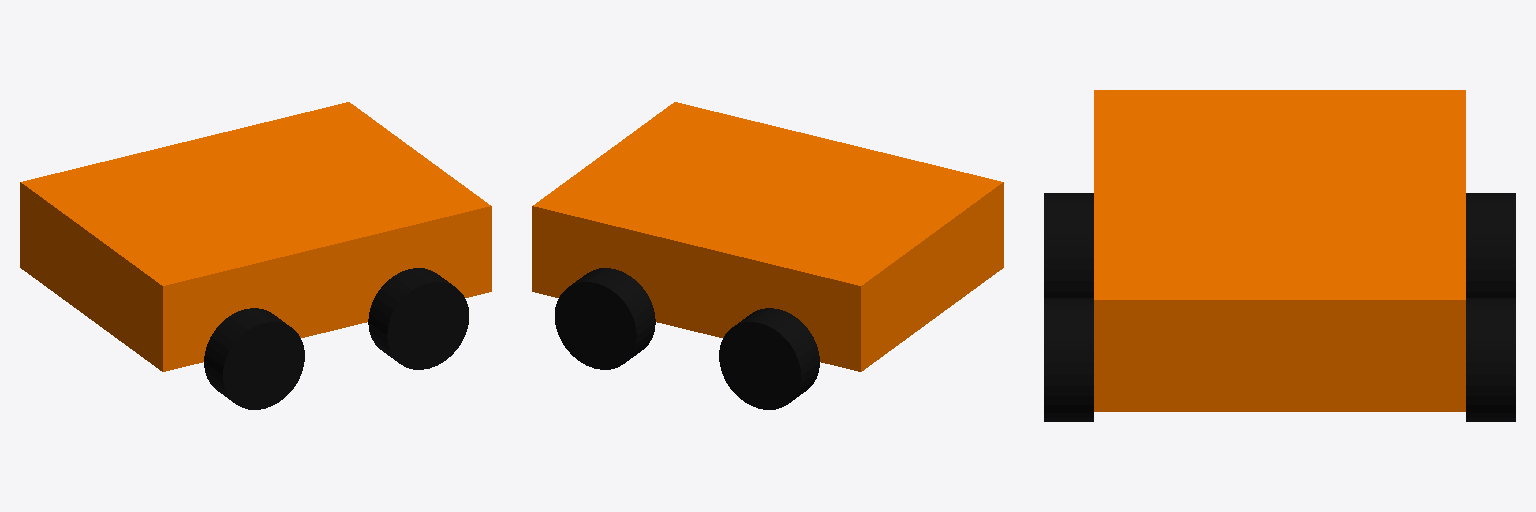
URDF robot description (lunar_rover):
<?xml version="1.0"?>
<robot name="lunar_rover">

  <!-- Materials -->
  <material name="gray">
    <color rgba="0.5 0.5 0.5 1"/>
  </material>
  <material name="black">
    <color rgba="0.1 0.1 0.1 1"/>
  </material>
  <material name="orange">
    <color rgba="1.0 0.5 0.0 1"/>
  </material>

  <!-- Base Footprint (for nav stack compatibility) -->
  <link name="base_footprint"/>

  <joint name="base_joint" type="fixed">
    <parent link="base_footprint"/>
    <child link="base_link"/>
    <origin xyz="0 0 0.1" rpy="0 0 0"/>
  </joint>

  <!-- Base Link (0.4m x 0.3m x 0.1m) -->
  <link name="base_link">
    <visual>
      <geometry>
        <box size="0.4 0.3 0.1"/>
      </geometry>
      <material name="orange"/>
    </visual>
    <collision>
      <geometry>
        <box size="0.4 0.3 0.1"/>
      </geometry>
    </collision>
    <inertial>
      <mass value="5.0"/>
      <origin xyz="0 0 0" rpy="0 0 0"/>
      <inertia ixx="0.0417" ixy="0.0" ixz="0.0"
               iyy="0.0542" iyz="0.0" izz="0.0708"/>
    </inertial>
  </link>

  <!-- Left Front Wheel -->
  <link name="left_front_wheel">
    <visual>
      <geometry>
        <cylinder length="0.04" radius="0.05"/>
      </geometry>
      <origin rpy="1.5708 0 0"/>
      <material name="black"/>
    </visual>
    <collision>
      <geometry>
        <cylinder length="0.04" radius="0.05"/>
      </geometry>
      <origin rpy="1.5708 0 0"/>
    </collision>
    <inertial>
      <mass value="0.5"/>
      <inertia ixx="0.00033" ixy="0.0" ixz="0.0"
               iyy="0.00033" iyz="0.0" izz="0.000625"/>
    </inertial>
  </link>

  <joint name="left_front_wheel_joint" type="continuous">
    <parent link="base_link"/>
    <child link="left_front_wheel"/>
    <origin xyz="0.1 0.17 -0.05" rpy="0 0 0"/>
    <axis xyz="0 1 0"/>
  </joint>

  <!-- Left Back Wheel -->
  <link name="left_back_wheel">
    <visual>
      <geometry>
        <cylinder length="0.04" radius="0.05"/>
      </geometry>
      <origin rpy="1.5708 0 0"/>
      <material name="black"/>
    </visual>
    <collision>
      <geometry>
        <cylinder length="0.04" radius="0.05"/>
      </geometry>
      <origin rpy="1.5708 0 0"/>
    </collision>
    <inertial>
      <mass value="0.5"/>
      <inertia ixx="0.00033" ixy="0.0" ixz="0.0"
               iyy="0.00033" iyz="0.0" izz="0.000625"/>
    </inertial>
  </link>

  <joint name="left_back_wheel_joint" type="continuous">
    <parent link="base_link"/>
    <child link="left_back_wheel"/>
    <origin xyz="-0.1 0.17 -0.05" rpy="0 0 0"/>
    <axis xyz="0 1 0"/>
  </joint>

  <!-- Right Front Wheel -->
  <link name="right_front_wheel">
    <visual>
      <geometry>
        <cylinder length="0.04" radius="0.05"/>
      </geometry>
      <origin rpy="1.5708 0 0"/>
      <material name="black"/>
    </visual>
    <collision>
      <geometry>
        <cylinder length="0.04" radius="0.05"/>
      </geometry>
      <origin rpy="1.5708 0 0"/>
    </collision>
    <inertial>
      <mass value="0.5"/>
      <inertia ixx="0.00033" ixy="0.0" ixz="0.0"
               iyy="0.00033" iyz="0.0" izz="0.000625"/>
    </inertial>
  </link>

  <joint name="right_front_wheel_joint" type="continuous">
    <parent link="base_link"/>
    <child link="right_front_wheel"/>
    <origin xyz="0.1 -0.17 -0.05" rpy="0 0 0"/>
    <axis xyz="0 1 0"/>
  </joint>

  <!-- Right Back Wheel -->
  <link name="right_back_wheel">
    <visual>
      <geometry>
        <cylinder length="0.04" radius="0.05"/>
      </geometry>
      <origin rpy="1.5708 0 0"/>
      <material name="black"/>
    </visual>
    <collision>
      <geometry>
        <cylinder length="0.04" radius="0.05"/>
      </geometry>
      <origin rpy="1.5708 0 0"/>
    </collision>
    <inertial>
      <mass value="0.5"/>
      <inertia ixx="0.00033" ixy="0.0" ixz="0.0"
               iyy="0.00033" iyz="0.0" izz="0.000625"/>
    </inertial>
  </link>

  <joint name="right_back_wheel_joint" type="continuous">
    <parent link="base_link"/>
    <child link="right_back_wheel"/>
    <origin xyz="-0.1 -0.17 -0.05" rpy="0 0 0"/>
    <axis xyz="0 1 0"/>
  </joint>

  <!-- Gazebo Colors -->
  <gazebo reference="base_link">
    <material>Gazebo/Orange</material>
  </gazebo>
  <gazebo reference="left_front_wheel">
    <material>Gazebo/Black</material>
    <mu1>1.0</mu1>
    <mu2>1.0</mu2>
  </gazebo>
  <gazebo reference="left_back_wheel">
    <material>Gazebo/Black</material>
    <mu1>1.0</mu1>
    <mu2>1.0</mu2>
  </gazebo>
  <gazebo reference="right_front_wheel">
    <material>Gazebo/Black</material>
    <mu1>1.0</mu1>
    <mu2>1.0</mu2>
  </gazebo>
  <gazebo reference="right_back_wheel">
    <material>Gazebo/Black</material>
    <mu1>1.0</mu1>
    <mu2>1.0</mu2>
  </gazebo>

  <!-- Gazebo Harmonic Differential Drive Plugin (Skid-steer with 4 wheels) -->
  <gazebo>
    <plugin filename="gz-sim-diff-drive-system"
            name="gz::sim::systems::DiffDrive">
      <left_joint>left_front_wheel_joint</left_joint>
      <left_joint>left_back_wheel_joint</left_joint>
      <right_joint>right_front_wheel_joint</right_joint>
      <right_joint>right_back_wheel_joint</right_joint>
      <wheel_separation>0.34</wheel_separation>
      <wheel_radius>0.05</wheel_radius>
      <odom_publish_frequency>50</odom_publish_frequency>
      <topic>cmd_vel</topic>
      <odom_topic>odom</odom_topic>
      <tf_topic>tf</tf_topic>
      <frame_id>odom</frame_id>
      <child_frame_id>base_footprint</child_frame_id>
    </plugin>

    <!-- Joint State Publisher Plugin -->
    <plugin filename="gz-sim-joint-state-publisher-system"
            name="gz::sim::systems::JointStatePublisher">
      <topic>joint_states</topic>
    </plugin>
  </gazebo>

</robot>

--- Render facts (derived) ---
Views: 3 orthographic renders of the robot side by side, from view 1: azimuth 30°, elevation 25°; view 2: azimuth 150°, elevation 25°; view 3: azimuth 270°, elevation 25°.
Model lunar_rover with 6 links and 5 joints (4 continuous, 1 fixed), rooted at base_footprint, posed every joint at zero.
Links seen in each view (by area): view 1: base_link, right_front_wheel, right_back_wheel; view 2: base_link, left_front_wheel, left_back_wheel; view 3: base_link, left_front_wheel, right_front_wheel, left_back_wheel, right_back_wheel.
Boxes of the visible links, box(x1,y1,x2,y2) form: base_link: box(20, 102, 491, 371); right_front_wheel: box(368, 268, 468, 369); right_back_wheel: box(204, 308, 304, 409); base_link: box(532, 102, 1003, 371); left_front_wheel: box(555, 268, 655, 369); left_back_wheel: box(719, 308, 819, 409); base_link: box(1094, 90, 1465, 411); left_front_wheel: box(1466, 298, 1515, 421); right_front_wheel: box(1044, 298, 1093, 421); left_back_wheel: box(1466, 193, 1515, 297); right_back_wheel: box(1044, 193, 1093, 297).
Bounding box of the posed robot: 0.4 × 0.38 × 0.15 m (x, y, z).
Geometry: primitives only (box / cylinder / sphere), no mesh files.
